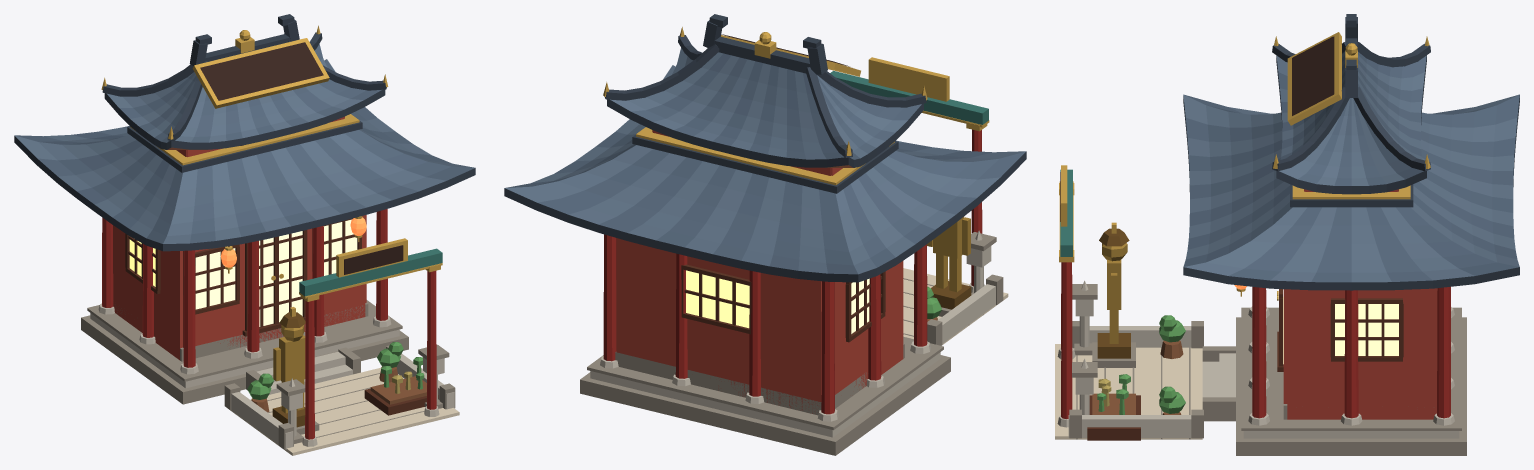
File: tcm-site.glb
The picture shows the model from 3 angles, left to right: view 1: azimuth 30°, elevation 25°; view 2: azimuth 150°, elevation 25°; view 3: azimuth 270°, elevation 25°; orthographic projection. The views are drawn at different scales.
Parts seen in each view (by area): view 1: roof_lower, roof, base, walls, courtyard, pillars, paifang, props, windows_glow, lattice, roof_ridge, sign_face (+5 smaller); view 2: roof_lower, walls, roof, base, pillars, roof_ridge, paifang, roof_ridge_lower, courtyard, lattice, props, windows_glow (+1 smaller); view 3: roof_lower, walls, roof, base, courtyard, props, pillars, roof_ridge, paifang, steps, lattice, sign_face (+4 smaller).
Boxes of the visible parts, x1=… form: roof_lower: x1=14, y1=59, x2=475, y2=251; roof: x1=104, y1=44, x2=385, y2=149; base: x1=81, y1=300, x2=408, y2=404; walls: x1=113, y1=215, x2=368, y2=361; courtyard: x1=224, y1=345, x2=459, y2=455; pillars: x1=98, y1=209, x2=391, y2=374; paifang: x1=299, y1=238, x2=442, y2=446; props: x1=247, y1=307, x2=438, y2=434; windows_glow: x1=129, y1=219, x2=357, y2=326; lattice: x1=125, y1=145, x2=361, y2=336; roof_ridge: x1=101, y1=14, x2=388, y2=141; sign_face: x1=202, y1=43, x2=322, y2=99; roof_lower: x1=504, y1=65, x2=1026, y2=282; walls: x1=615, y1=238, x2=904, y2=415; roof: x1=607, y1=47, x2=923, y2=167; base: x1=580, y1=336, x2=950, y2=455; pillars: x1=600, y1=234, x2=930, y2=421; roof_ridge: x1=603, y1=14, x2=927, y2=157; paifang: x1=830, y1=57, x2=989, y2=292; roof_ridge_lower: x1=632, y1=127, x2=898, y2=193; courtyard: x1=903, y1=268, x2=1008, y2=345; lattice: x1=681, y1=264, x2=885, y2=342; props: x1=927, y1=216, x2=971, y2=321; windows_glow: x1=686, y1=270, x2=869, y2=333; roof_lower: x1=1183, y1=94, x2=1519, y2=290; walls: x1=1283, y1=288, x2=1437, y2=419; roof: x1=1276, y1=52, x2=1426, y2=194; base: x1=1236, y1=307, x2=1466, y2=455; courtyard: x1=1055, y1=321, x2=1203, y2=439; props: x1=1087, y1=222, x2=1185, y2=440; pillars: x1=1248, y1=286, x2=1454, y2=425; roof_ridge: x1=1272, y1=14, x2=1430, y2=171; paifang: x1=1057, y1=165, x2=1075, y2=427; steps: x1=1202, y1=346, x2=1235, y2=421; lattice: x1=1277, y1=289, x2=1403, y2=371; sign_face: x1=1292, y1=36, x2=1332, y2=113.
Size of the model in its own units: 3.18 by 3.04 by 3.62.
